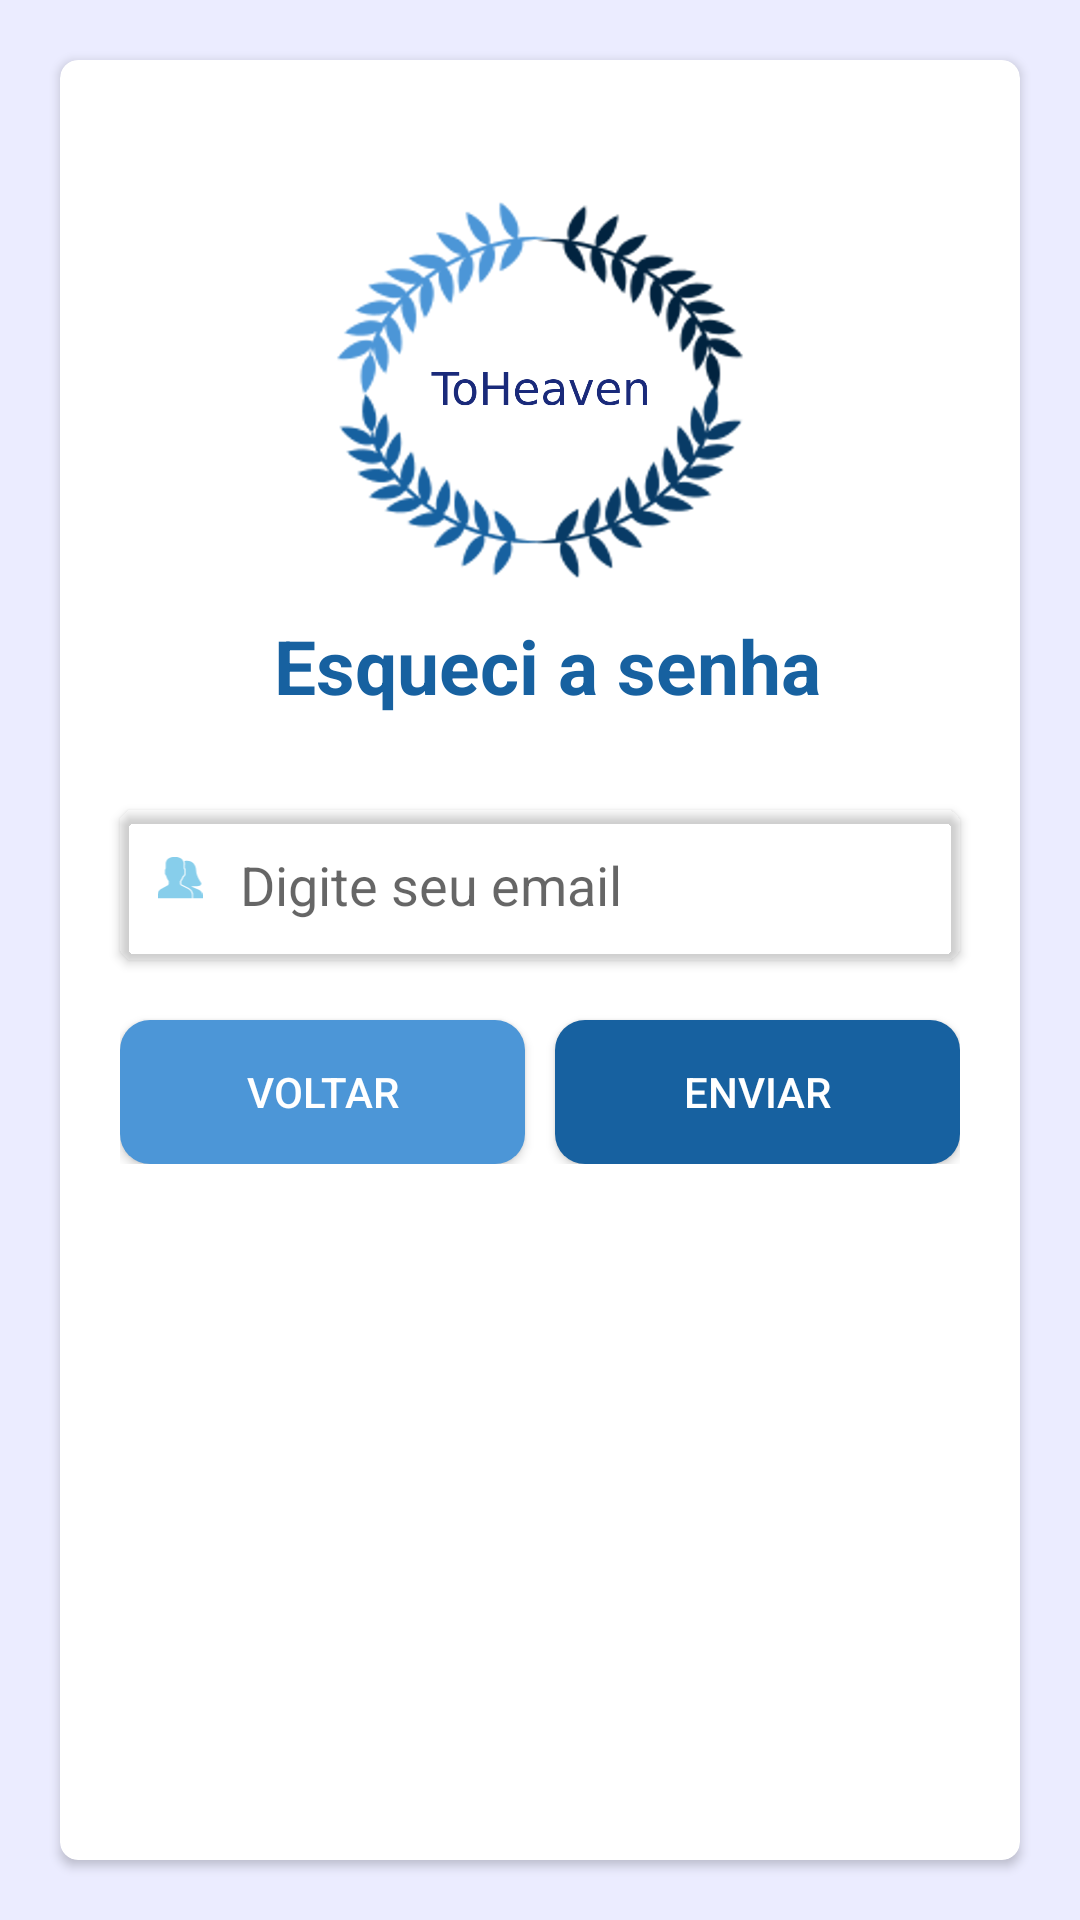

Screen size 1080×1920. Icon name, then its center in pixels as point (x, y):
user: point (180, 878)
